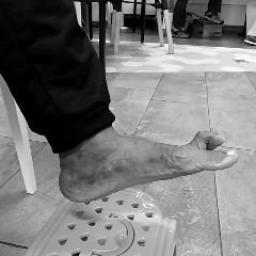Medial View -Left Foot-: (40, 110, 246, 210)
